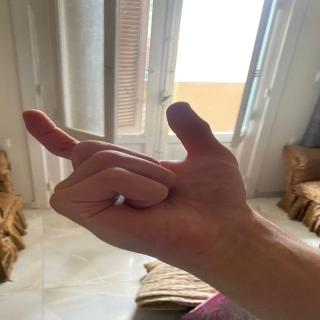NOON: (23, 100, 240, 259)
